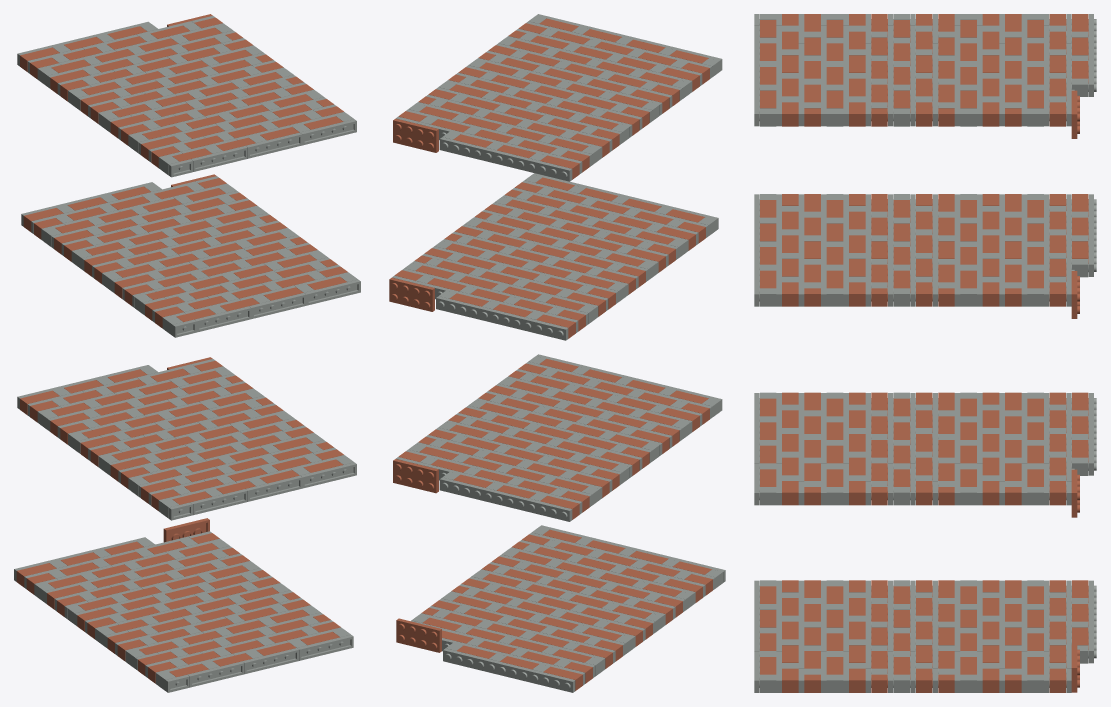
Rendered from entrada muros.dae.
3 views of the same model, side by side, from view 1: azimuth 30°, elevation 25°; view 2: azimuth 150°, elevation 25°; view 3: azimuth 270°, elevation 25° (orthographic). The views are drawn at different scales.
Parts seen in each view (by area): view 1: Inner-Node-entrada__muros_dot_io-574, Inner-Node-entrada__muros_dot_io-11, Inner-Node-entrada__muros_dot_io-192, Inner-Node-entrada__muros_dot_io-383, Inner-Node-entrada__muros_dot_io-393, Inner-Node-entrada__muros_dot_io-216, Inner-Node-entrada__muros_dot_io-407, Inner-Node-entrada__muros_dot_io-1, Inner-Node-entrada__muros_dot_io-25, Inner-Node-entrada__muros_dot_io-598, Inner-Node-entrada__muros_dot_io-584, Inner-Node-entrada__muros_dot_io-202 (+1 smaller); view 2: Inner-Node-entrada__muros_dot_io-762, Inner-Node-entrada__muros_dot_io-380, Inner-Node-entrada__muros_dot_io-571, Inner-Node-entrada__muros_dot_io-189, Inner-Node-entrada__muros_dot_io-764, Inner-Node-entrada__muros_dot_io-765, Inner-Node-entrada__muros_dot_io-766, Inner-Node-entrada__muros_dot_io-767; view 3: Inner-Node-entrada__muros_dot_io-189, Inner-Node-entrada__muros_dot_io-380, Inner-Node-entrada__muros_dot_io-571, Inner-Node-entrada__muros_dot_io-762.
Boxes of the visible parts, x1,y1,x2,y2 form: Inner-Node-entrada__muros_dot_io-574: (245,132,302,158); Inner-Node-entrada__muros_dot_io-11: (188,661,244,687); Inner-Node-entrada__muros_dot_io-192: (245,475,302,501); Inner-Node-entrada__muros_dot_io-383: (249,293,306,318); Inner-Node-entrada__muros_dot_io-393: (194,306,251,332); Inner-Node-entrada__muros_dot_io-216: (300,462,356,488); Inner-Node-entrada__muros_dot_io-407: (304,279,360,305); Inner-Node-entrada__muros_dot_io-1: (242,648,298,674); Inner-Node-entrada__muros_dot_io-25: (297,635,353,660); Inner-Node-entrada__muros_dot_io-598: (300,119,356,145); Inner-Node-entrada__muros_dot_io-584: (191,146,247,171); Inner-Node-entrada__muros_dot_io-202: (191,489,247,515); Inner-Node-entrada__muros_dot_io-762: (439,137,572,181); Inner-Node-entrada__muros_dot_io-380: (439,477,572,521); Inner-Node-entrada__muros_dot_io-571: (436,296,568,340); Inner-Node-entrada__muros_dot_io-189: (443,648,575,692); Inner-Node-entrada__muros_dot_io-764: (396,618,441,652); Inner-Node-entrada__muros_dot_io-765: (393,459,438,493); Inner-Node-entrada__muros_dot_io-766: (389,277,434,311); Inner-Node-entrada__muros_dot_io-767: (393,118,438,152); Inner-Node-entrada__muros_dot_io-189: (1088,580,1096,663); Inner-Node-entrada__muros_dot_io-380: (1088,393,1096,475); Inner-Node-entrada__muros_dot_io-571: (1088,194,1096,276); Inner-Node-entrada__muros_dot_io-762: (1088,14,1096,96).
Bounding box in the file's own units: 353 × 920 × 492.
